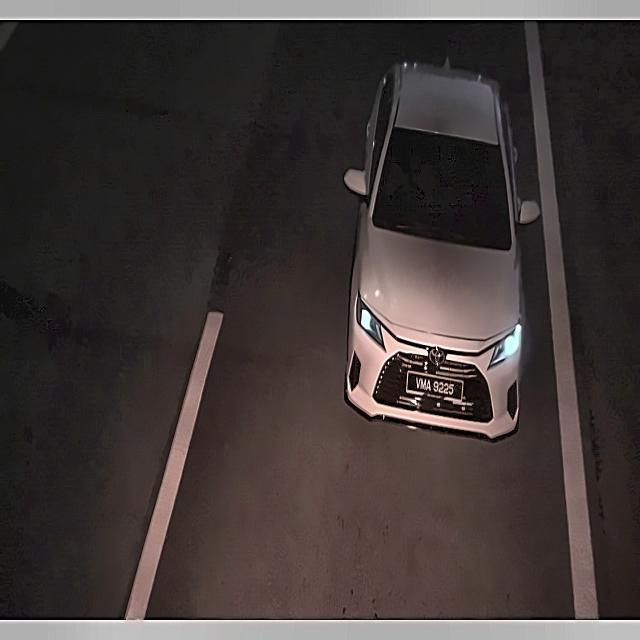car: (407, 367, 467, 407)
